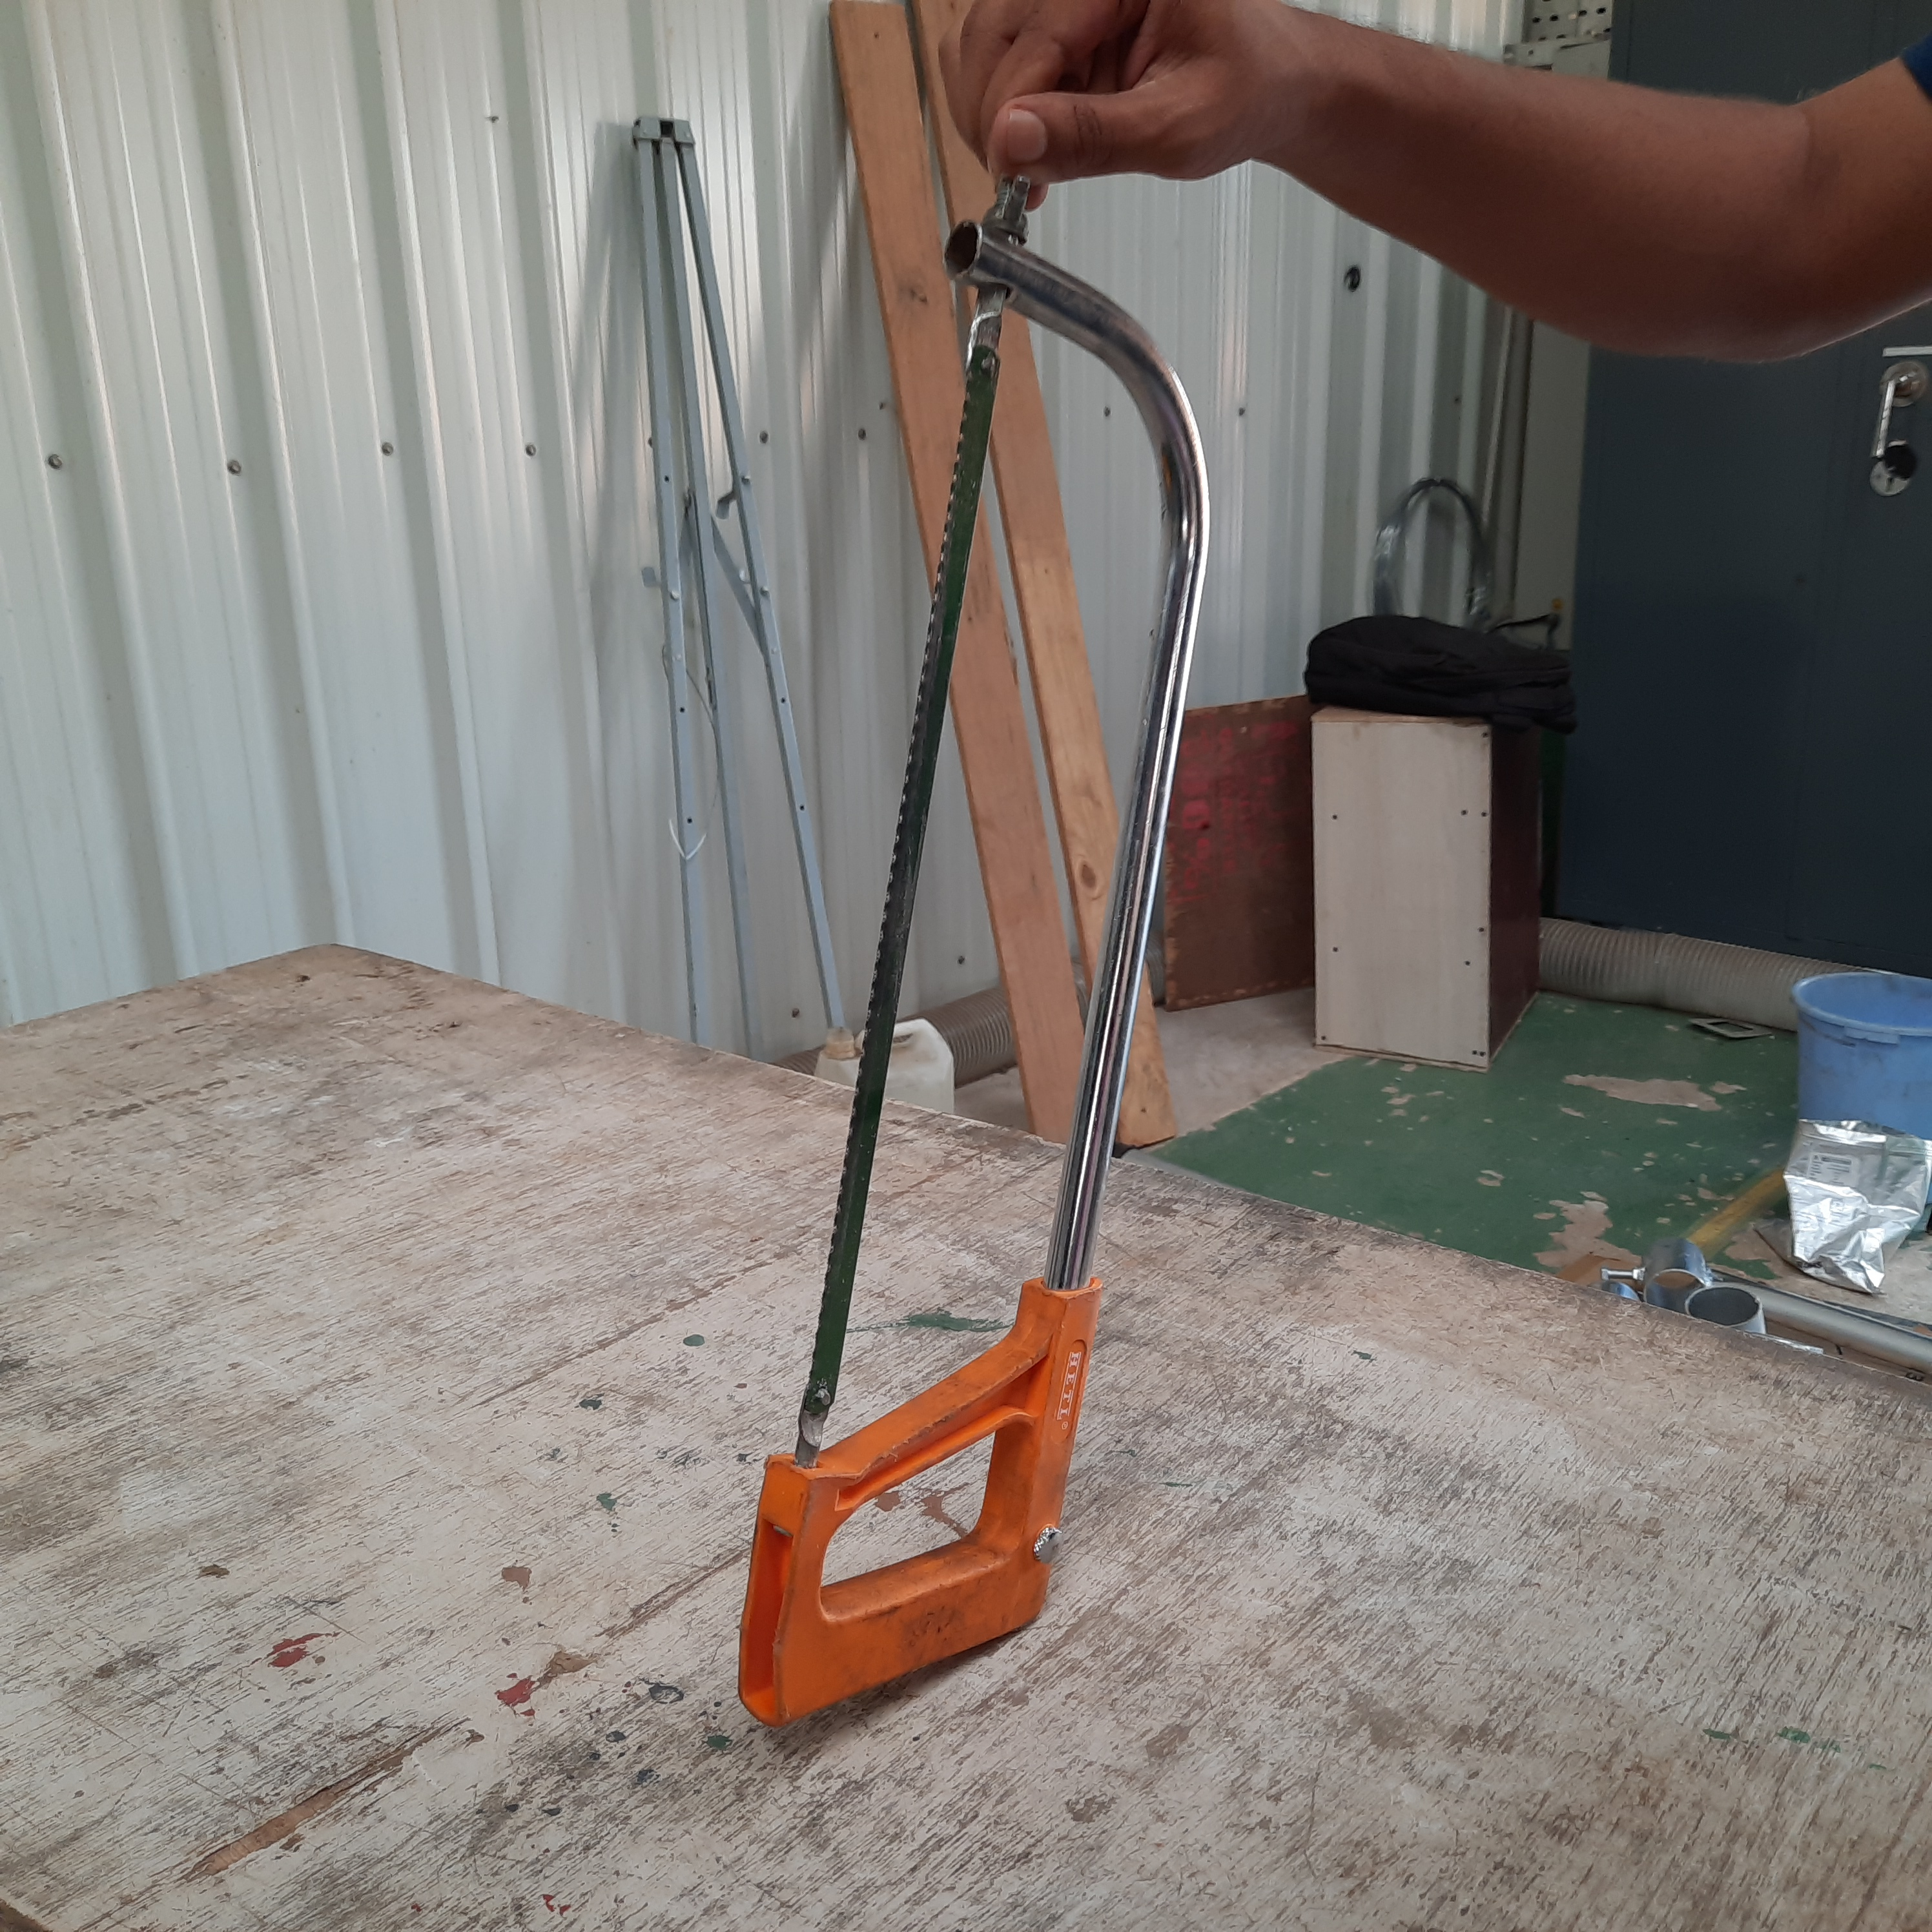Hexaframe: (731, 179, 1212, 1759)
